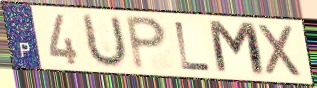4: (47, 12, 80, 67)
L: (173, 20, 214, 73)
M: (205, 18, 269, 79)
P: (123, 14, 170, 73)
U: (81, 12, 129, 70)
X: (255, 22, 306, 80)
